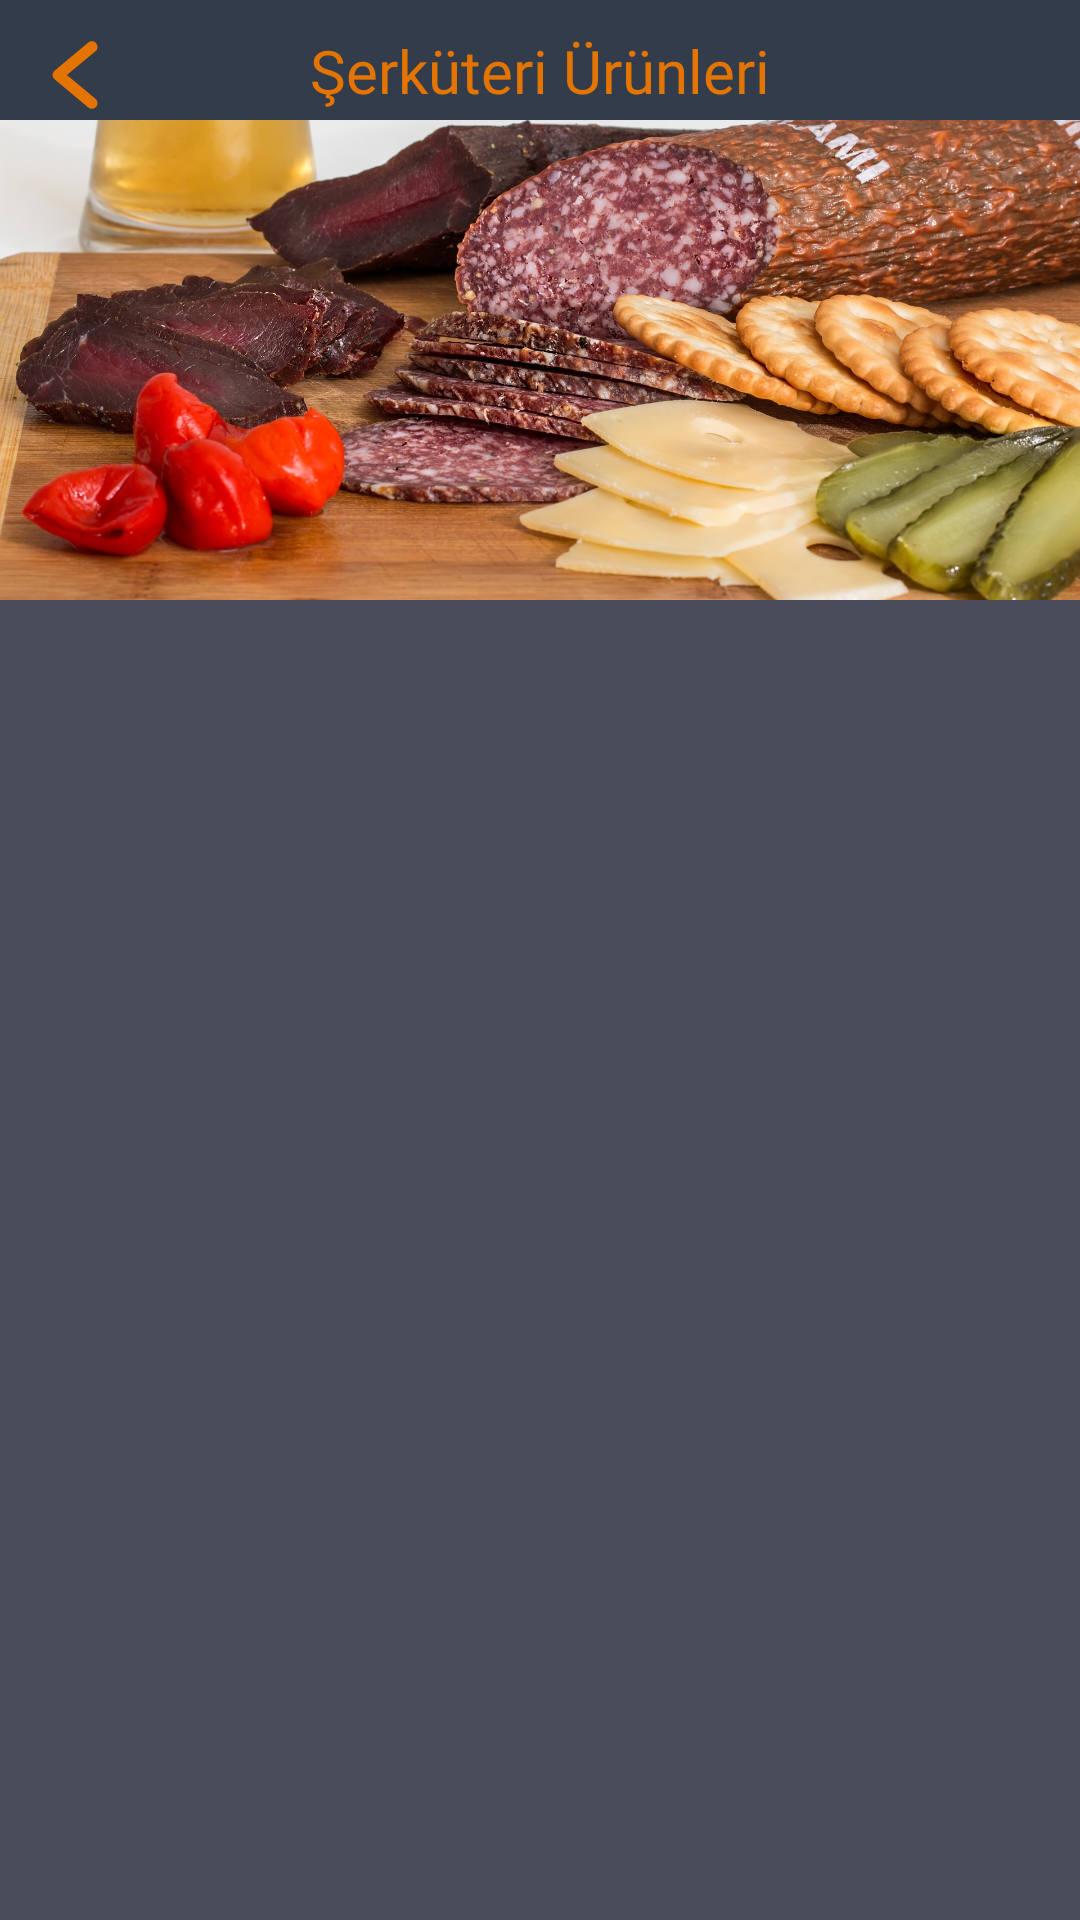

Icons on this 1080 x 1920 Android screen, each with its box as {"x1": x1, "y1": y1, "x2": x2, "y2": y2}:
back arrow: {"x1": 52, "y1": 41, "x2": 98, "y2": 109}
